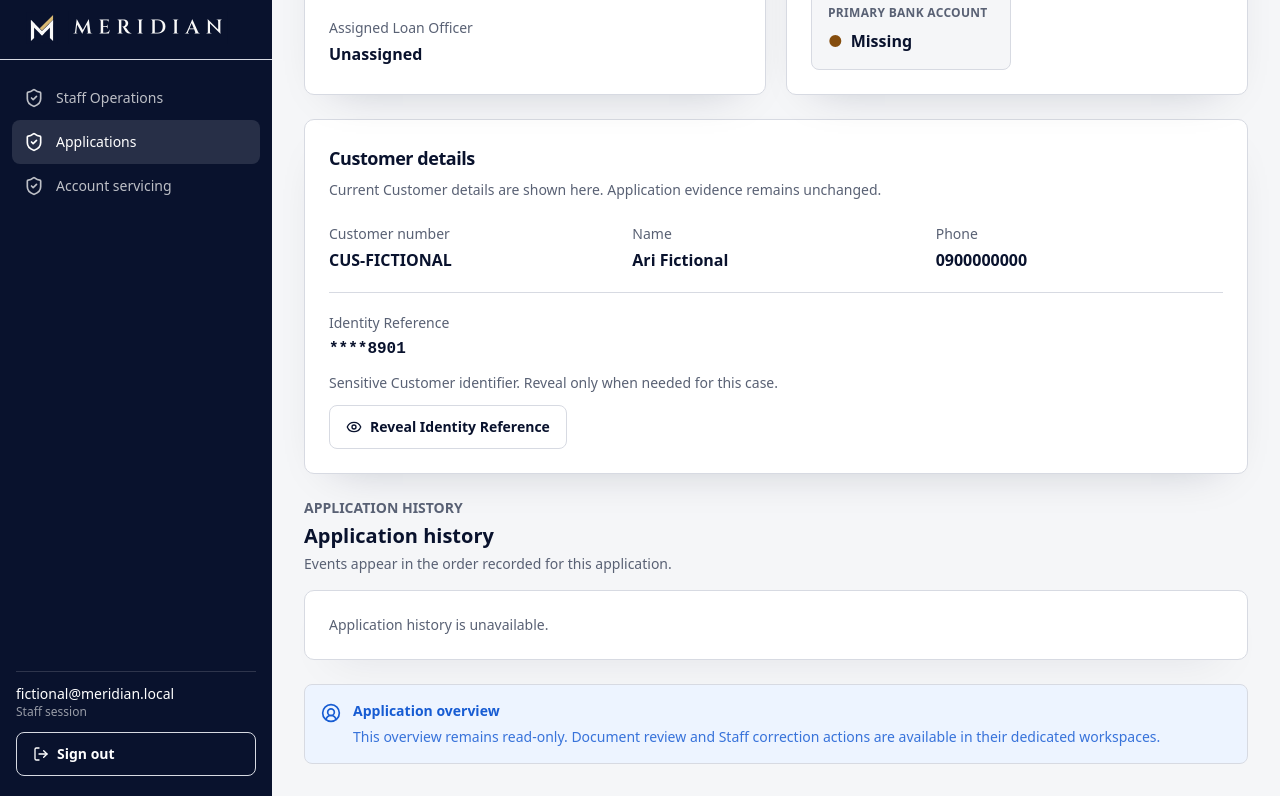
Application Case protected Identity Reference › rejects a successful transport response with inconsistent application or mask context
(page scrolled)
Click the button "Reveal Identity Reference".
click(448, 427)  # box [329, 405, 567, 449]
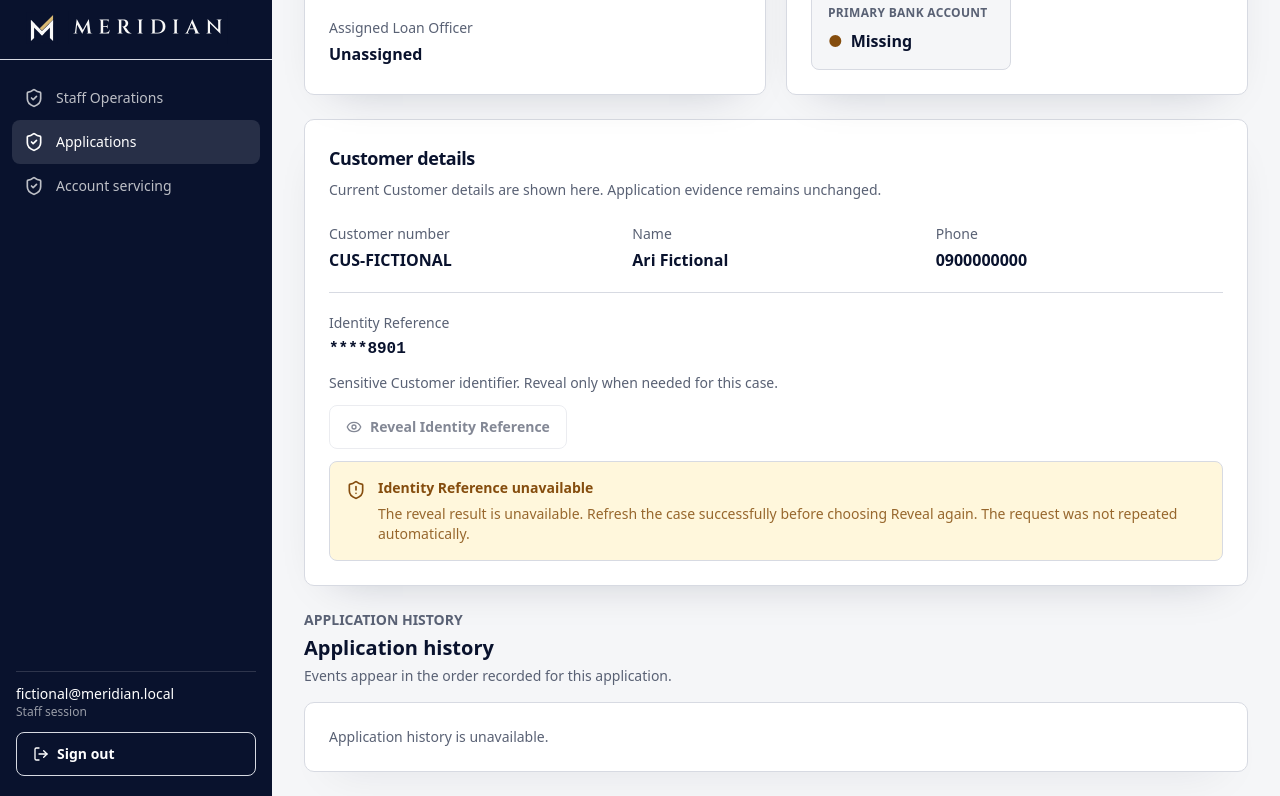
expect the text "request was not repeated automatically" is shown: met, box [378, 504, 1177, 543]
expect the button "Reveal Identity Reference" is disabled: met, box [329, 405, 567, 449]
